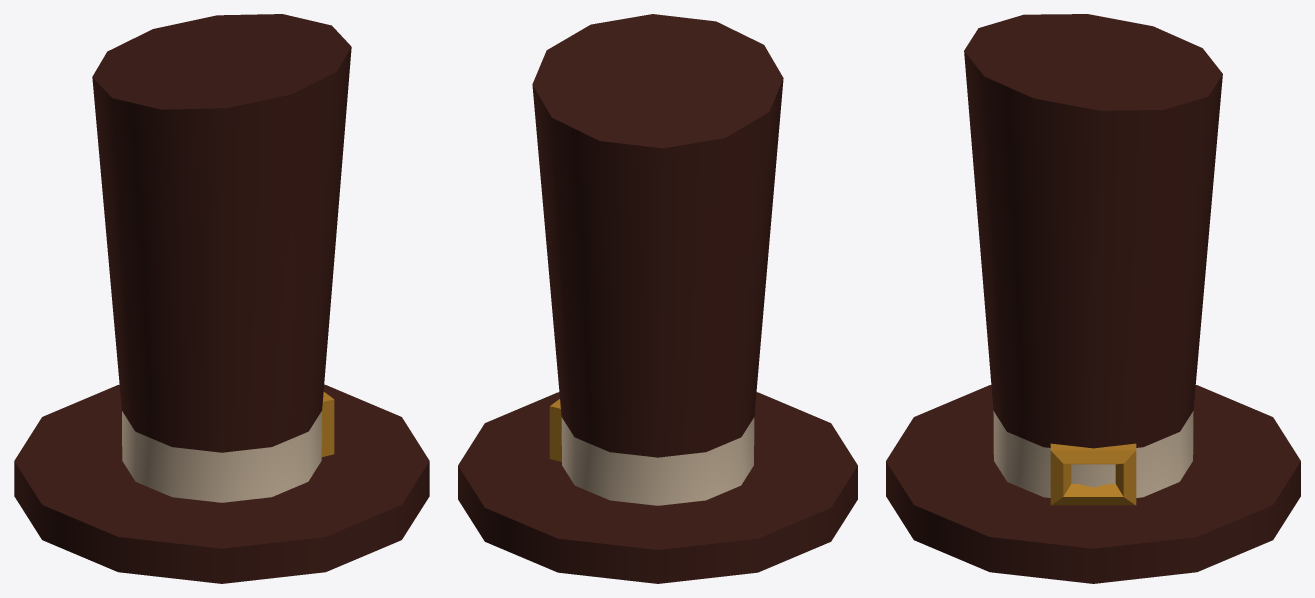
Rendered from Hat_Top.fbx.
3 views of the same model, side by side, from view 1: azimuth 30°, elevation 25°; view 2: azimuth 150°, elevation 25°; view 3: azimuth 270°, elevation 25° (orthographic). The views are drawn at different scales.
Visible parts, largest first — view 1: Hat_Top1; view 2: Hat_Top1; view 3: Hat_Top1.
Part boxes in pixels (x1,y1,x2,y2): Hat_Top1: (14,14,429,583); Hat_Top1: (458,14,857,583); Hat_Top1: (886,14,1300,583).
Size of the model in its own units: 1.73 by 2.07 by 1.73.
